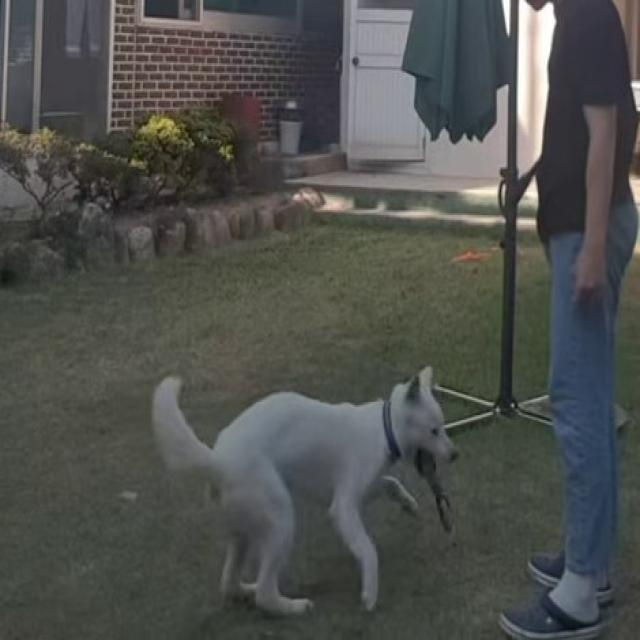Unleashed_Dog: (152, 222, 606, 618)
